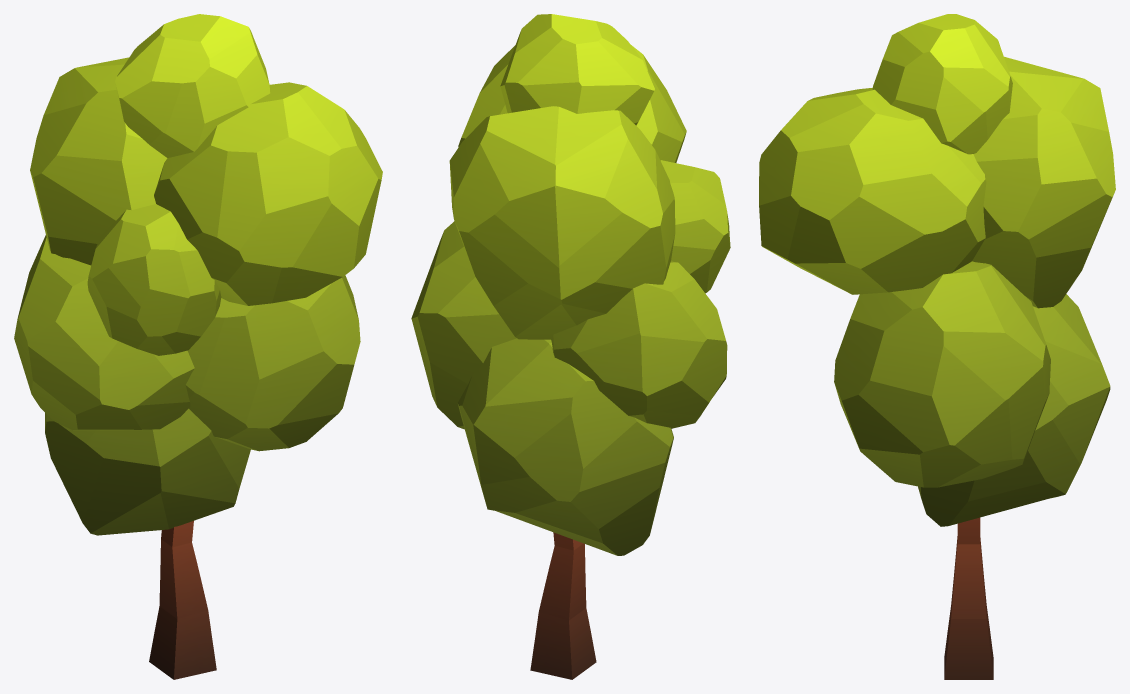
3 renders of one model, left to right at view 1: azimuth 30°, elevation 25°; view 2: azimuth 150°, elevation 25°; view 3: azimuth 270°, elevation 25°, orthographic. The views are drawn at different scales.
Parts seen in each view (by area): view 1: 7.001; view 2: 7.001; view 3: 7.001.
Part boxes in pixels (left/top/right/bottom): 7.001: left=14, top=14, right=382, bottom=679; 7.001: left=411, top=14, right=730, bottom=679; 7.001: left=759, top=14, right=1115, bottom=679.
Bounding box in the file's own units: 2.79 × 5.41 × 2.69.
Materials: 1 (1 with a texture image).
